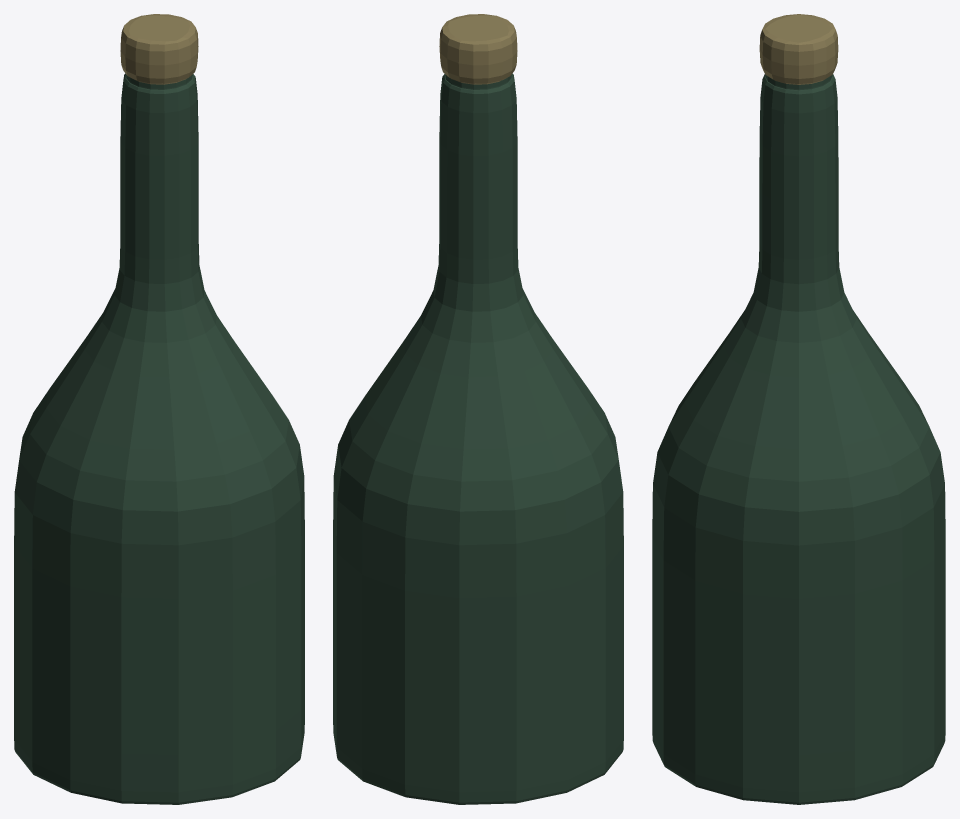
The model's file is Wine_bottle.fbx.
3 views of the same model, side by side, from view 1: azimuth 30°, elevation 25°; view 2: azimuth 150°, elevation 25°; view 3: azimuth 270°, elevation 25° (orthographic).
Visible parts, largest first — view 1: Cylinder; view 2: Cylinder; view 3: Cylinder.
Boxes of the visible parts, x1=… form: Cylinder: x1=14, y1=14, x2=304, y2=804; Cylinder: x1=333, y1=14, x2=623, y2=804; Cylinder: x1=652, y1=14, x2=945, y2=804.
Bounding box in the file's own units: 180 × 485 × 180.
